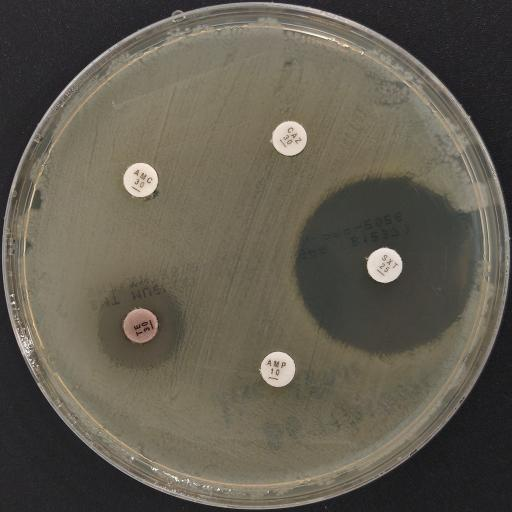disc: (272, 120, 308, 156), (122, 162, 158, 198), (122, 308, 158, 344), (260, 351, 296, 387), (367, 247, 403, 283)
